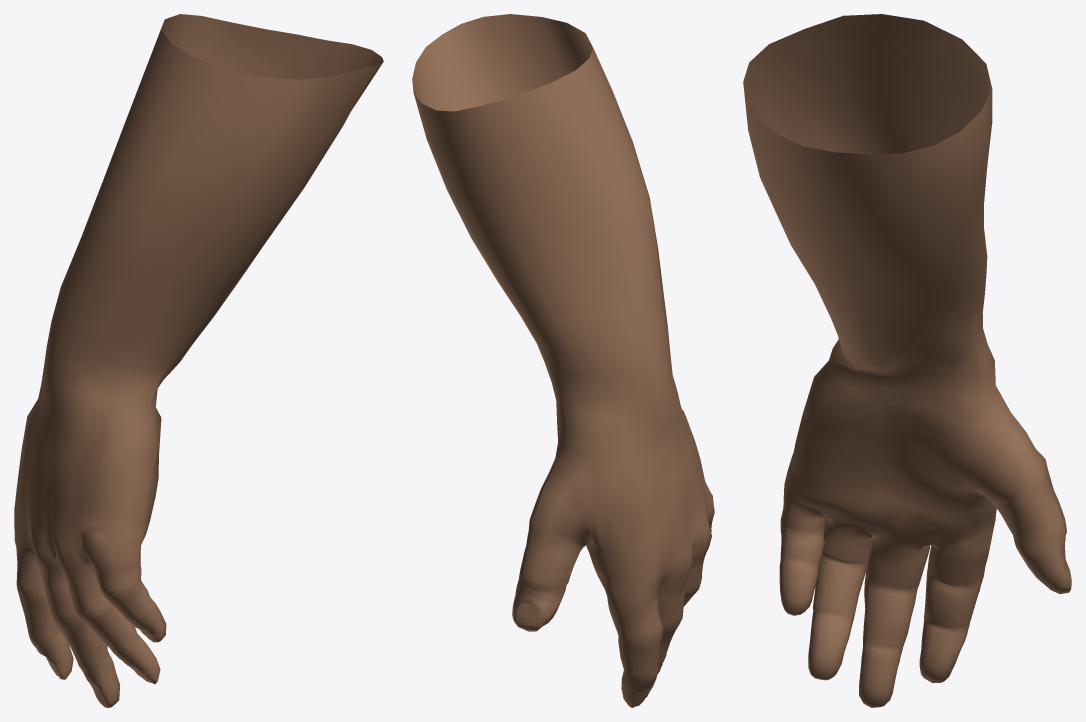
File: HandFatDummy.FBX
The picture shows the model from 3 angles, left to right: view 1: azimuth 30°, elevation 25°; view 2: azimuth 150°, elevation 25°; view 3: azimuth 270°, elevation 25°; orthographic projection. The views are drawn at different scales.
Visible parts, largest first — view 1: Hand; view 2: Hand; view 3: Hand.
Part boxes in pixels (bbox=[...]): Hand: bbox=[14, 14, 383, 707]; Hand: bbox=[412, 14, 714, 707]; Hand: bbox=[743, 14, 1071, 707].
Size of the model in its own units: 11.17 by 22.38 by 9.11.
